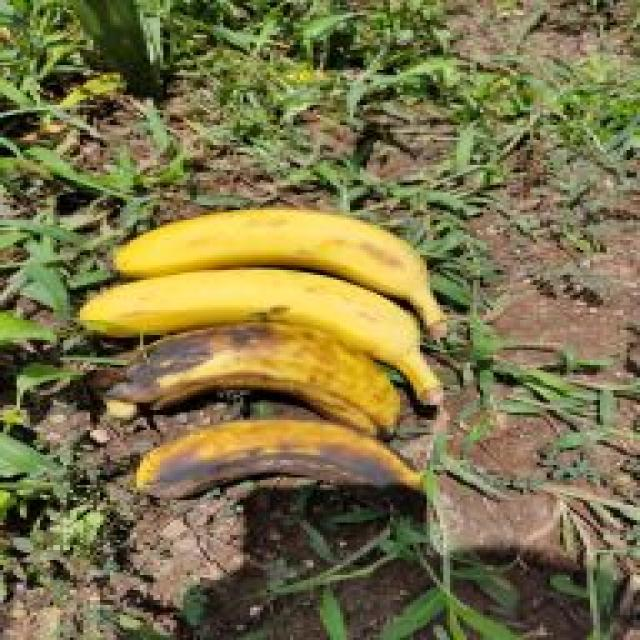Organik: (76, 266, 446, 383), (98, 204, 456, 316), (76, 327, 402, 433), (113, 418, 417, 518)
